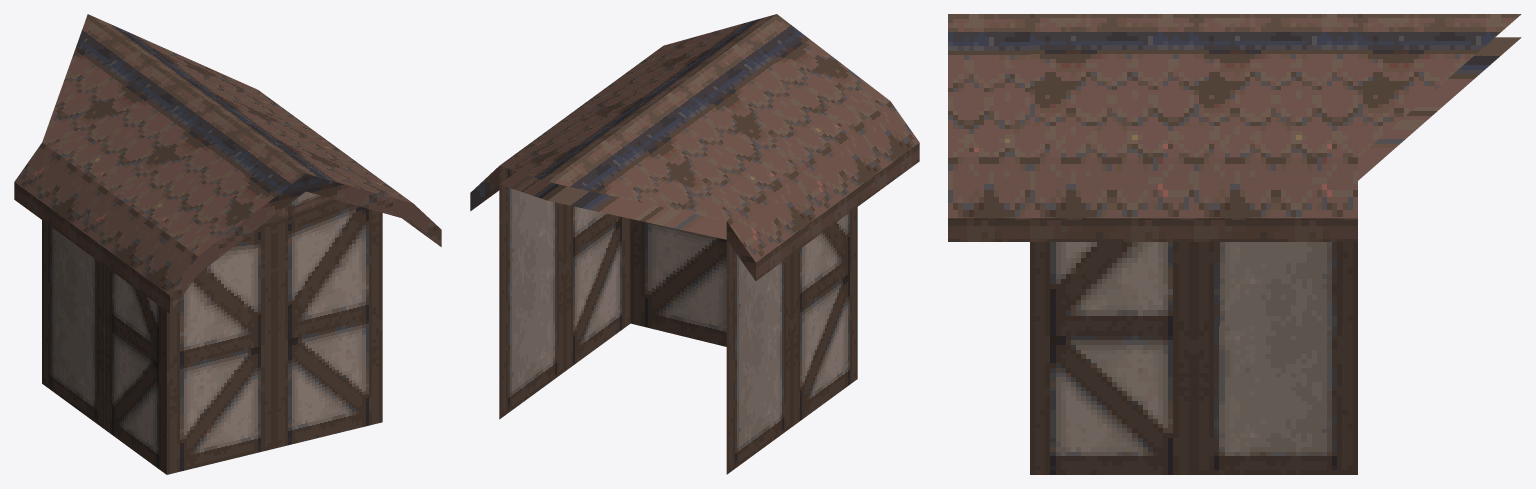
Rendered from roof_red_dormer_window.glb.
The picture shows the model from 3 angles, left to right: view 1: azimuth 30°, elevation 25°; view 2: azimuth 150°, elevation 25°; view 3: azimuth 270°, elevation 25°; orthographic projection. The views are drawn at different scales.
Parts seen in each view (by area): view 1: roof_red_dormer_window; view 2: roof_red_dormer_window; view 3: roof_red_dormer_window.
Boxes of the visible parts, box(x1,y1,x2,y2) form: roof_red_dormer_window: box(14, 14, 441, 474); roof_red_dormer_window: box(470, 14, 919, 474); roof_red_dormer_window: box(948, 14, 1521, 474).
Bounding box in the file's own units: 2.31 × 2.42 × 3.21.
1 material, 1 textured.
